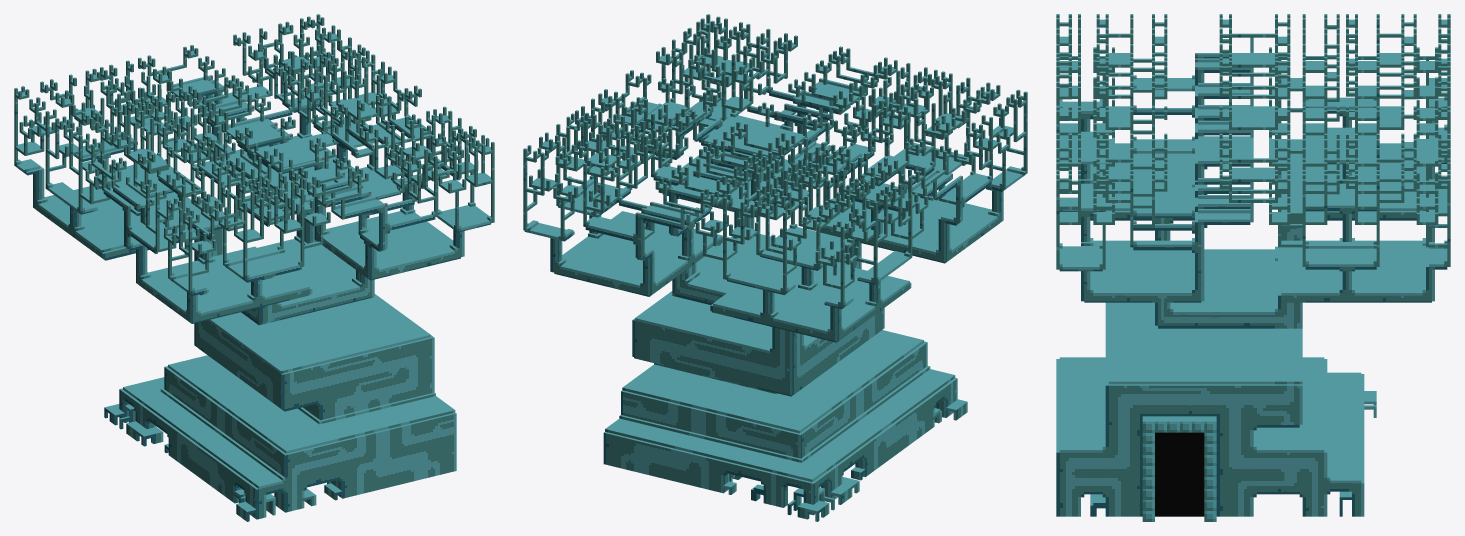
The model's file is tree_of_deathao.fezao.glb.
3 views of the same model, side by side, from view 1: azimuth 30°, elevation 25°; view 2: azimuth 150°, elevation 25°; view 3: azimuth 270°, elevation 25° (orthographic). The views are drawn at different scales.
Visible parts, largest first — view 1: TREE_OF_DEATHAO; view 2: TREE_OF_DEATHAO; view 3: TREE_OF_DEATHAO.
Part boxes in pixels (box(x1,y1,x2,y2)): TREE_OF_DEATHAO: box(14, 14, 494, 521); TREE_OF_DEATHAO: box(523, 14, 1027, 521); TREE_OF_DEATHAO: box(1056, 14, 1450, 521).
Size of the model in its own units: 8 by 8 by 8.
Materials: 1 (1 with a texture image).
